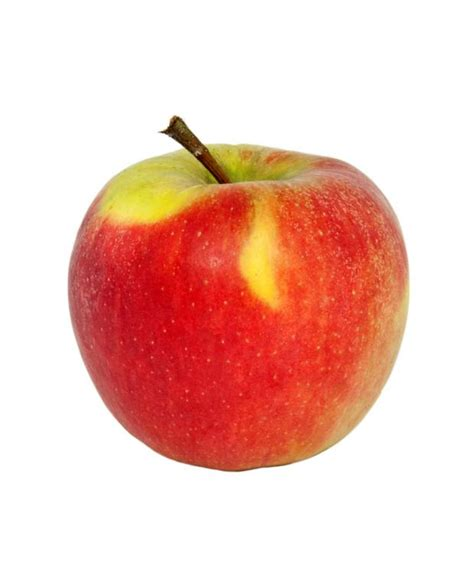apple: (62, 123, 414, 477)
